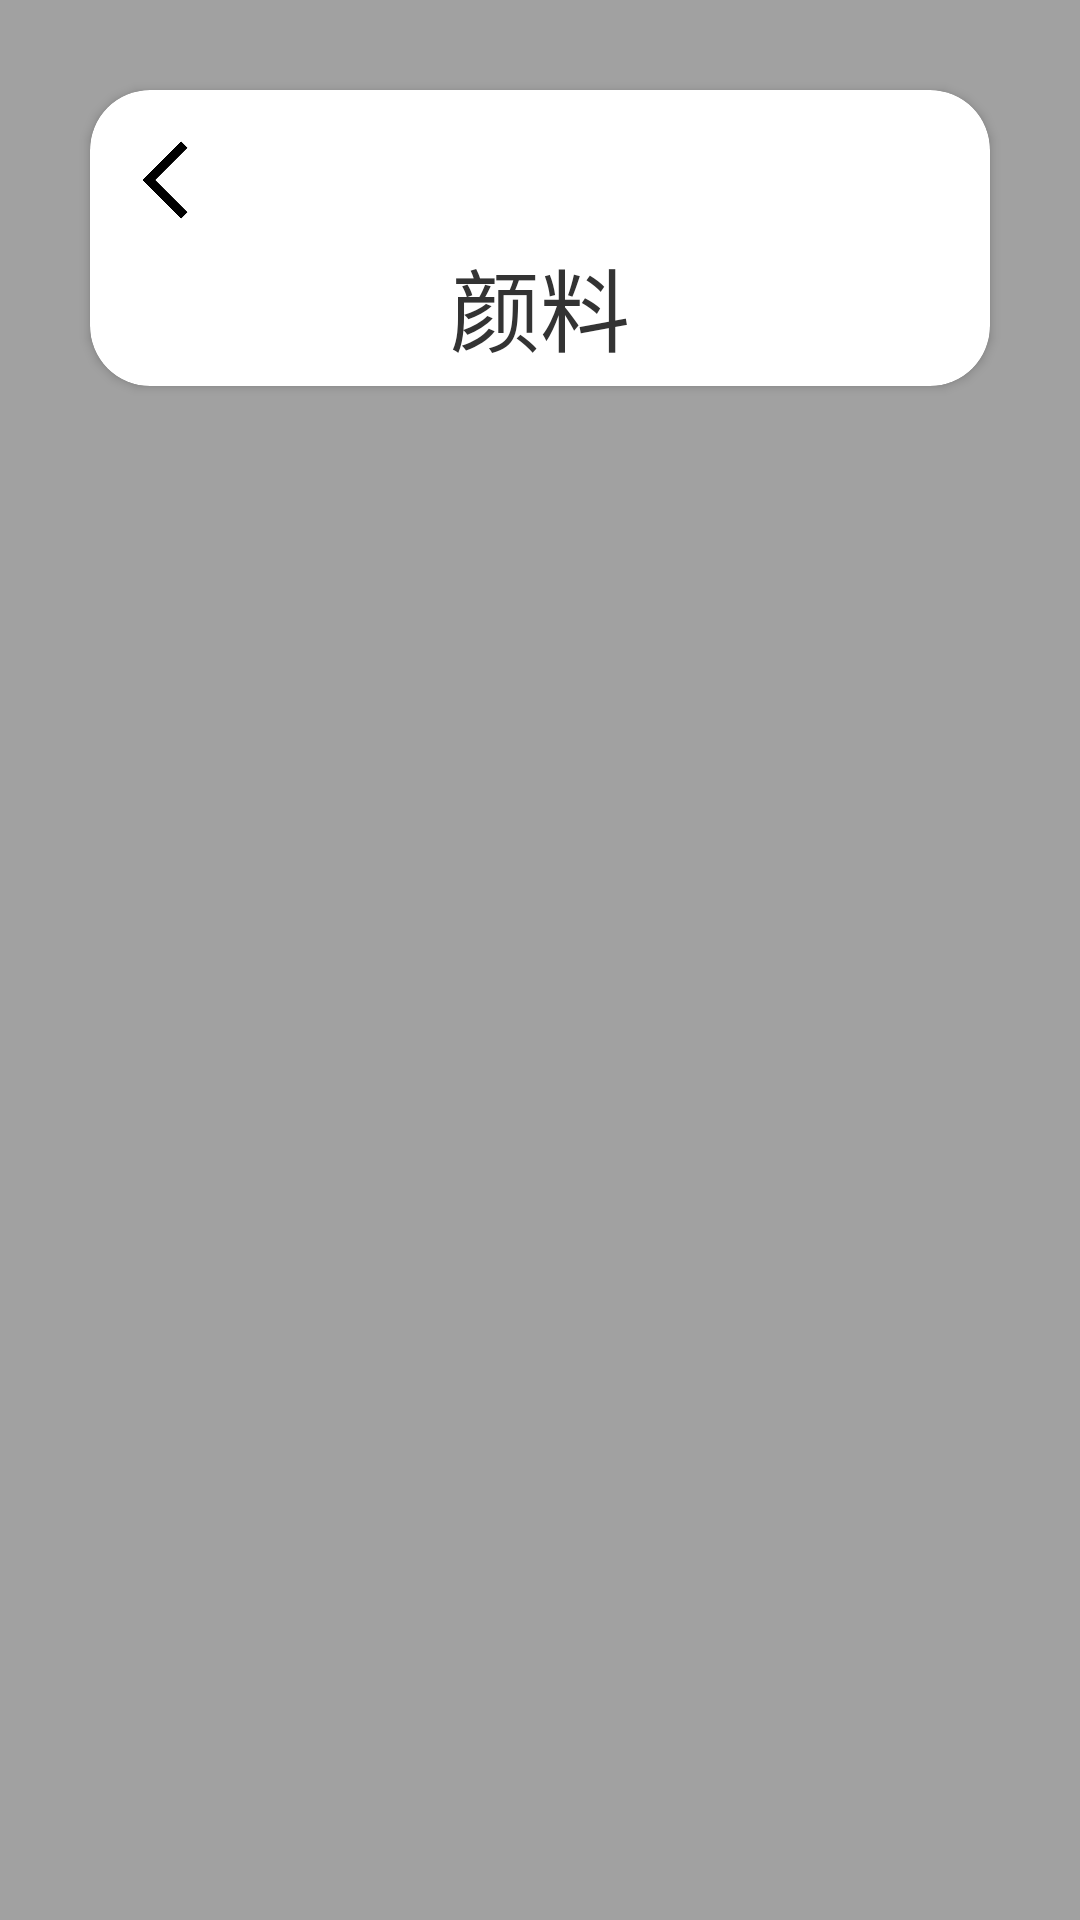

Screen size 1080x1920. Icon name, then its center in pixels as (x=x, y=y):
back: (x=165, y=180)
